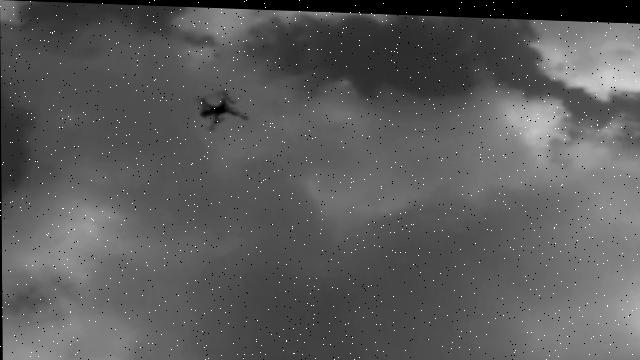drone: (194, 86, 251, 135)
